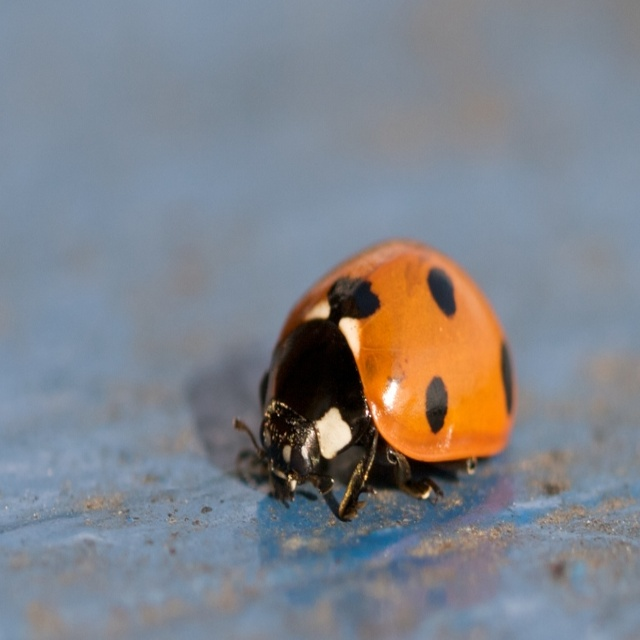Ladybug: (235, 235, 521, 524)
